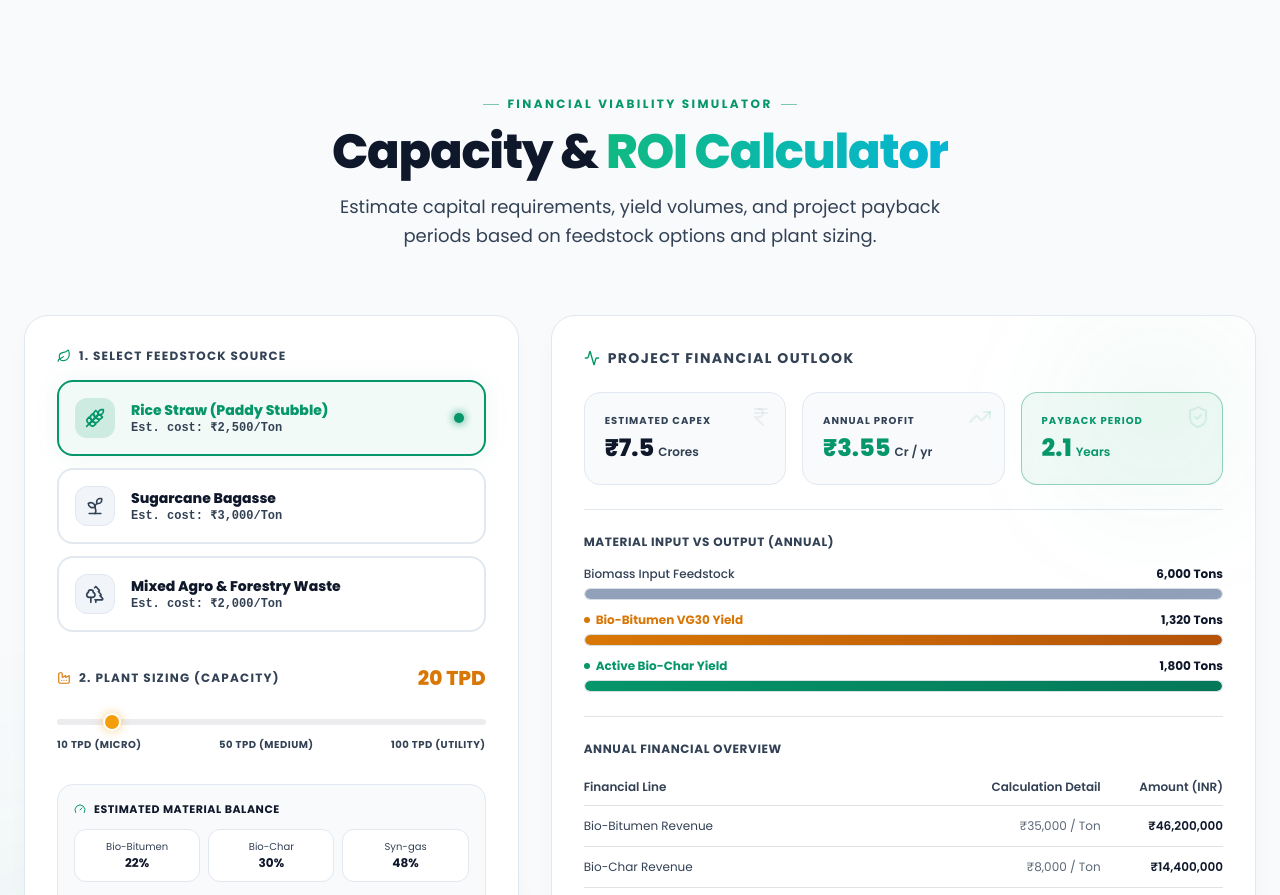
Test case: CapacityCalculator › updates financials when clicking different feedstock types
What coordinates should you click on to do the following:
click the button "Sugarcane Bagasse Est. cost: ₹3,000/Ton"
I would click on:
 (271, 506)
Its box is top-left (57, 468), bottom-right (486, 544).
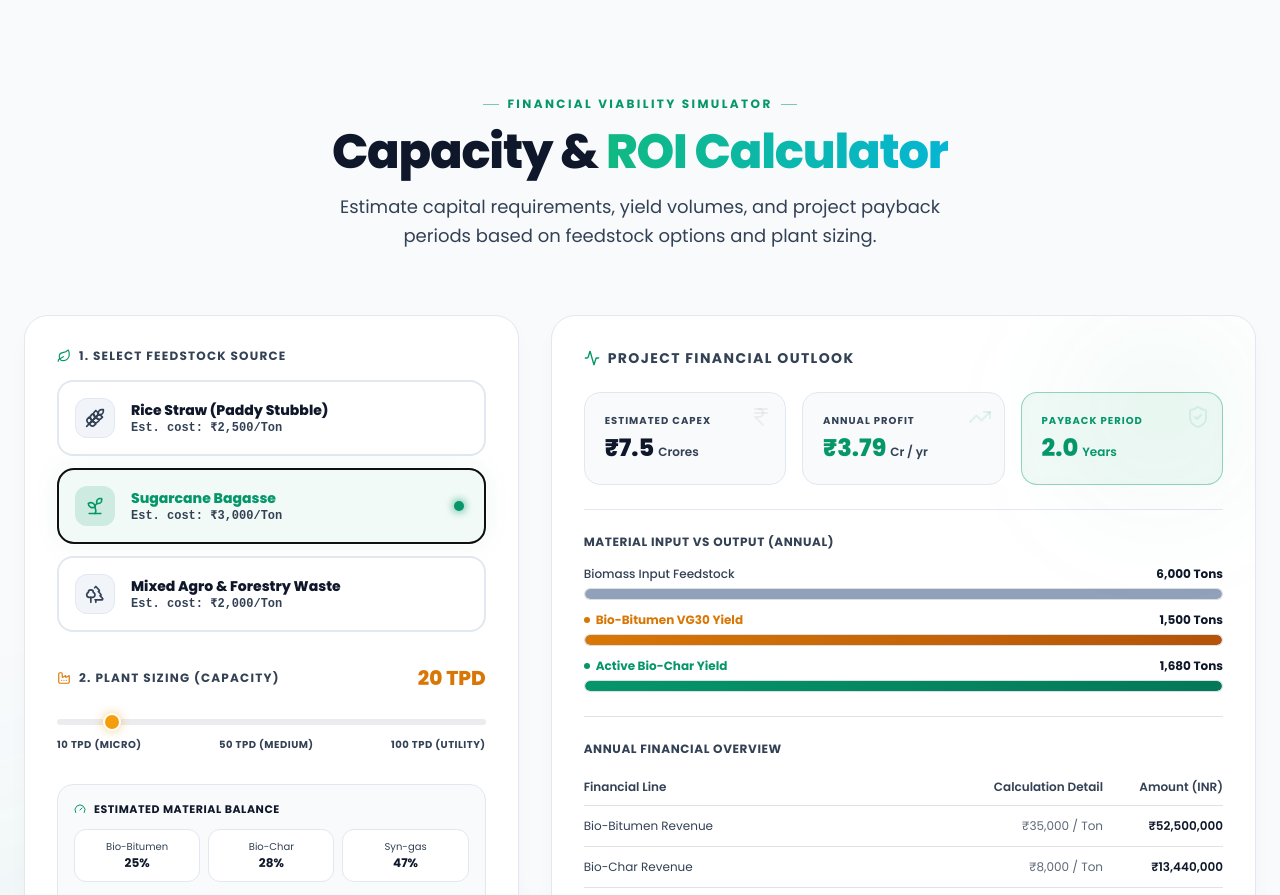
expect the text "25%" is shown: met, box top-left (124, 854), bottom-right (150, 871)
